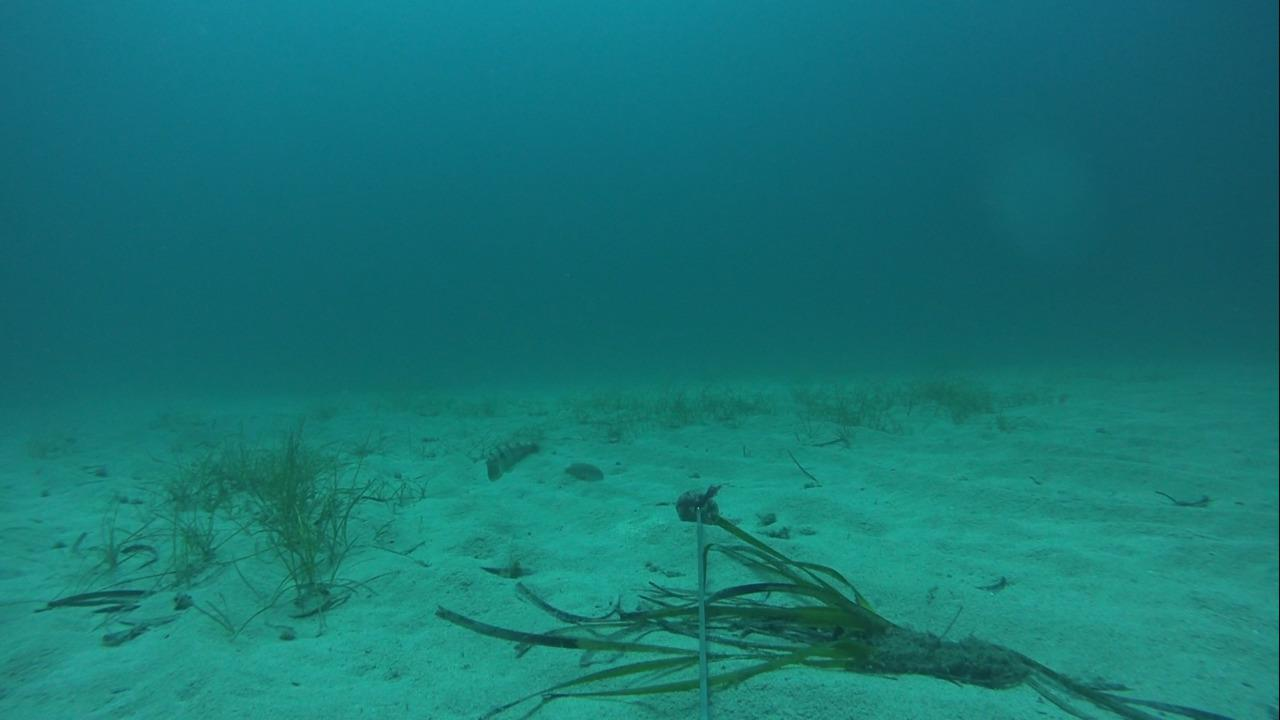raor: (480, 429, 551, 489), (562, 464, 605, 484)
